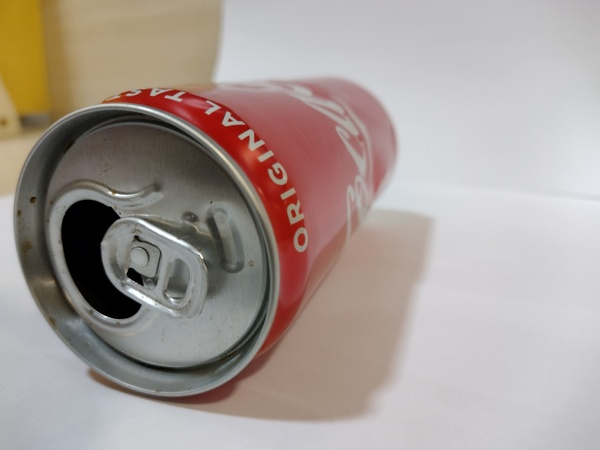can: (12, 65, 398, 406)
